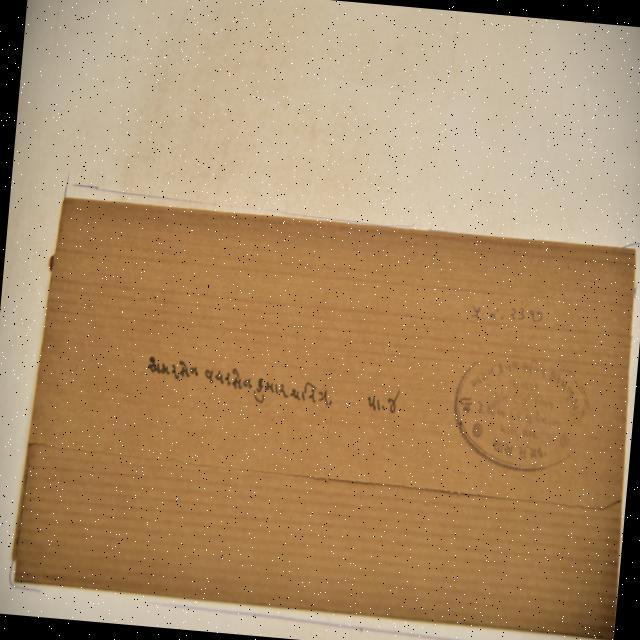text_paragraph: (6, 192, 635, 639)
